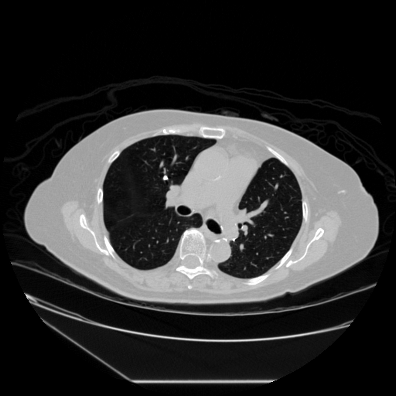nodule: (162, 174, 168, 180)
